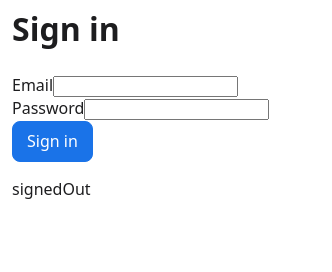
it: SignInForm › shows the generic message and stays signed out for a wrong password
Type "ana@example.com" into the field labelled "Email" at [146, 87], box [53, 76, 238, 97]
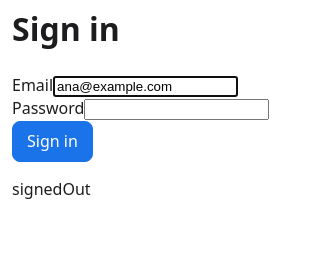
Type "wrong-passphrase-here" into the password field labelled "Password" at [177, 110], box [84, 100, 269, 120]
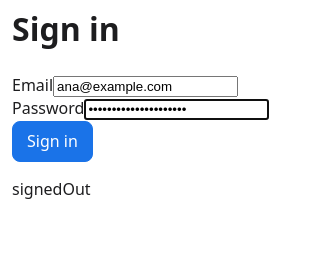
Click the button "Sign in" at [52, 141], box [12, 121, 93, 162]
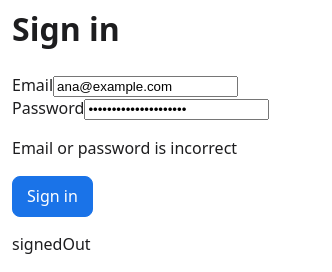
Expected: the text with test id "status" reads "signedOut", [12, 233, 90, 255]
Now the message reads "Email or password is incorrect", box [12, 137, 237, 159]
